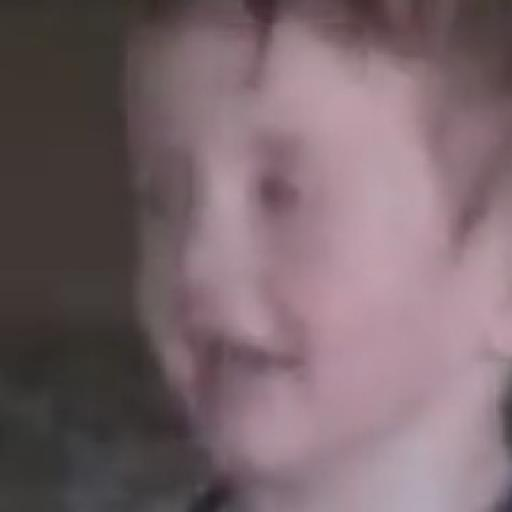Autism: (121, 4, 512, 479)
